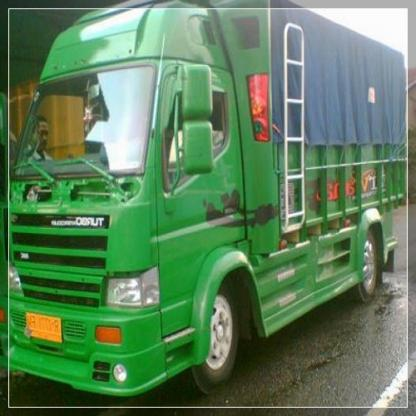truck: (2, 1, 409, 399)
